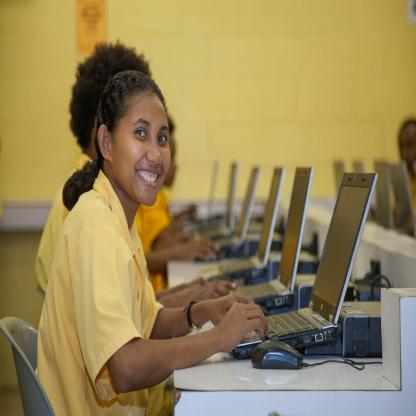board: (232, 169, 376, 357), (237, 168, 312, 305), (199, 168, 284, 280), (194, 163, 239, 235), (221, 168, 261, 246), (392, 162, 416, 238), (374, 161, 395, 228), (334, 163, 344, 191), (354, 163, 364, 171)
